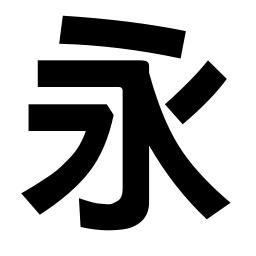D: (57, 11, 187, 46)
HSZ: (116, 56, 150, 106)
Hs: (36, 57, 82, 89)
Ne: (191, 185, 234, 222)
PNc: (153, 100, 194, 150)
PZe: (19, 175, 67, 216)
Ps: (196, 58, 230, 93)
SG: (77, 190, 151, 232)
Sm: (119, 150, 150, 182)
TPZ: (81, 101, 115, 144)
Ts: (26, 101, 58, 134)
